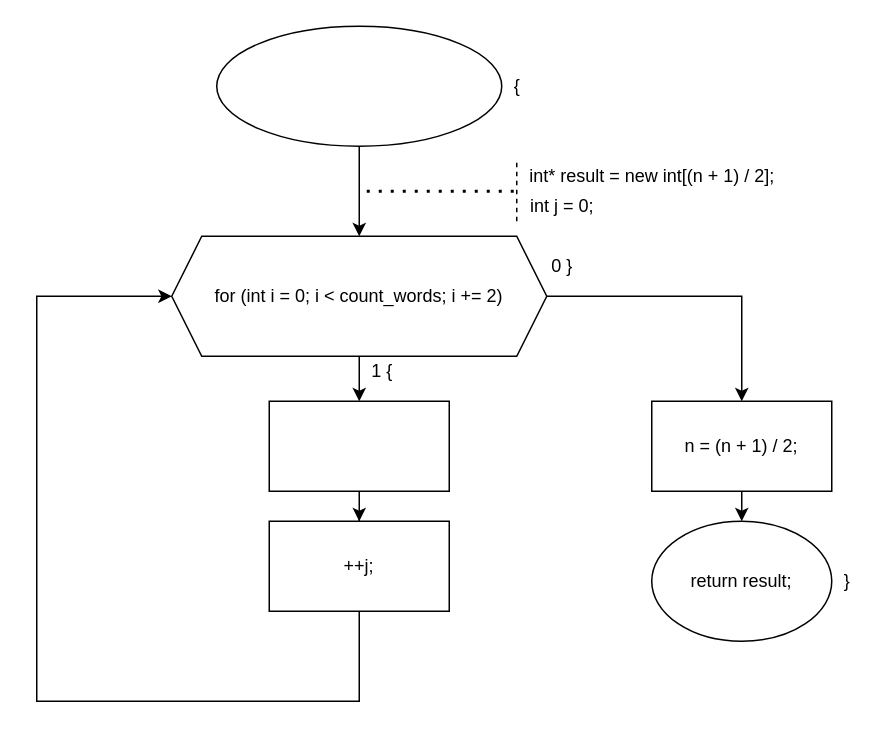
This 888x740 diagram has some shape labels left out. Each missing label, with the centre of its shape:
int* toNewArrive(int* arr, int &n): point (358, 85)
result[j] = arr[i];: point (358, 445)
